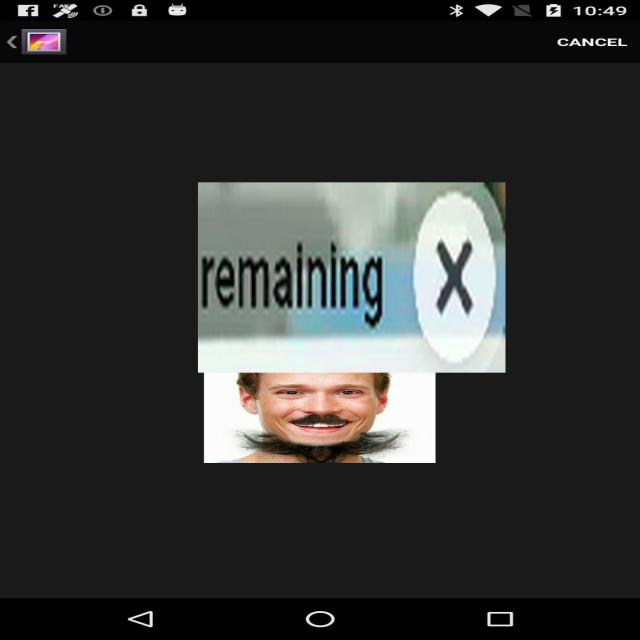misdirection: (198, 182, 505, 373)
